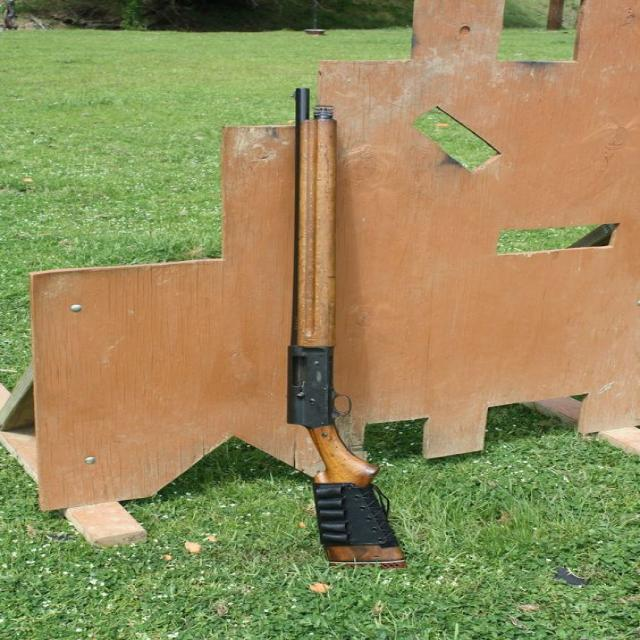shotgun: (256, 72, 449, 586)
